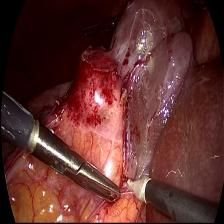Grasper: (34, 120, 122, 213), (78, 13, 118, 41)
Hook: (123, 167, 155, 207)
